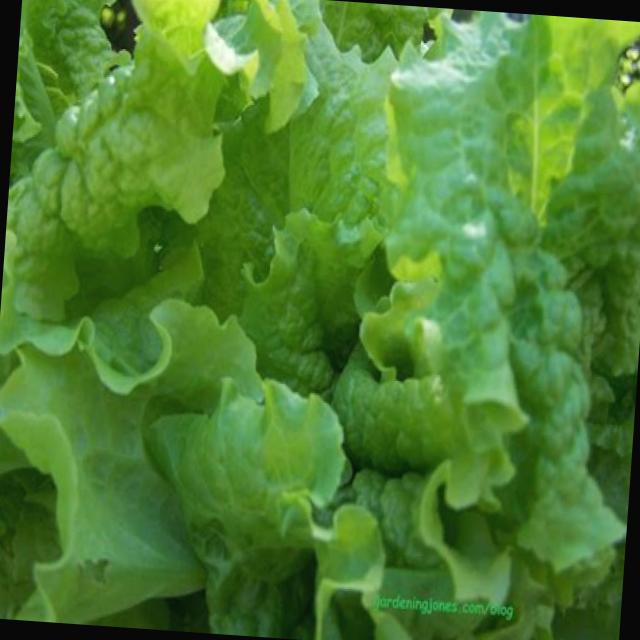Lettuce-Ready-to-Harvest: (34, 44, 620, 463)
